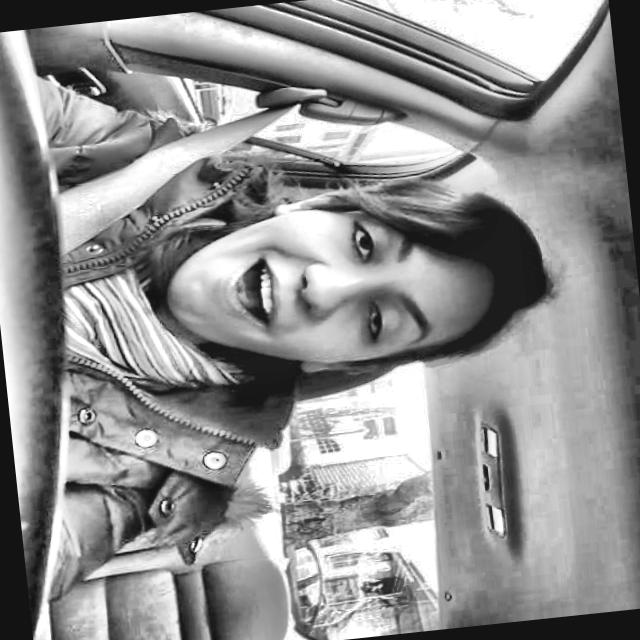open_eyes: (346, 290, 397, 355), (336, 215, 387, 269)
open_mouth: (211, 249, 292, 346)
